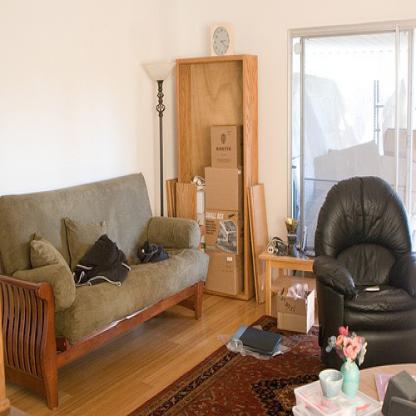chair: (312, 175, 415, 366)
sofa: (0, 171, 209, 409)
